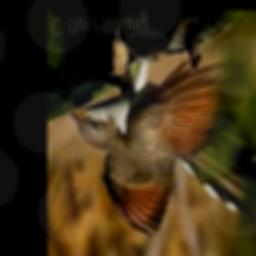Cuckoo: (67, 57, 256, 236)
